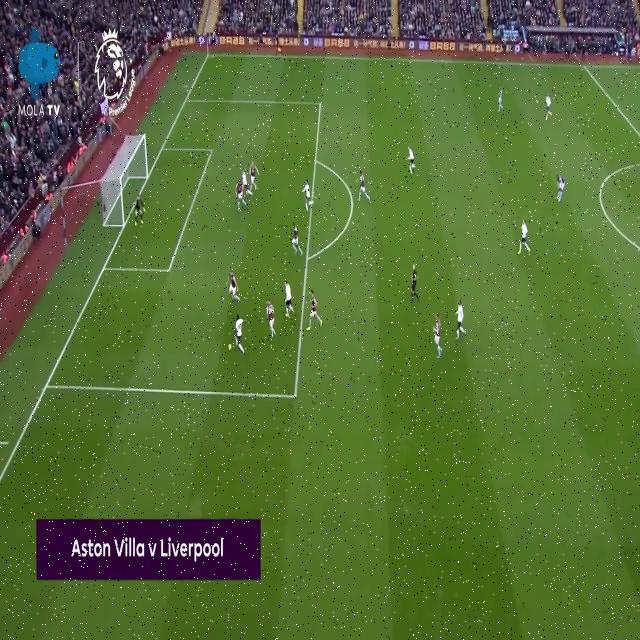Ball: (227, 341, 233, 352)
GoalKeeper: (132, 194, 146, 229)
Referee: (408, 263, 420, 305), (275, 34, 283, 57)
TEAM 1: (306, 290, 323, 332), (432, 311, 443, 360), (226, 270, 240, 303), (290, 222, 303, 256), (234, 178, 246, 213), (266, 299, 276, 338), (358, 170, 370, 202), (241, 169, 253, 197), (555, 172, 565, 203), (496, 86, 504, 115)
TEAM 2: (233, 312, 248, 358), (453, 298, 466, 342), (517, 218, 530, 258), (284, 280, 295, 320), (302, 178, 314, 212), (407, 144, 418, 176), (249, 160, 259, 190), (544, 92, 553, 123)
